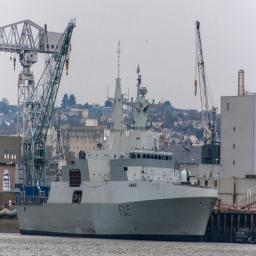Fragata: (16, 64, 220, 240)
